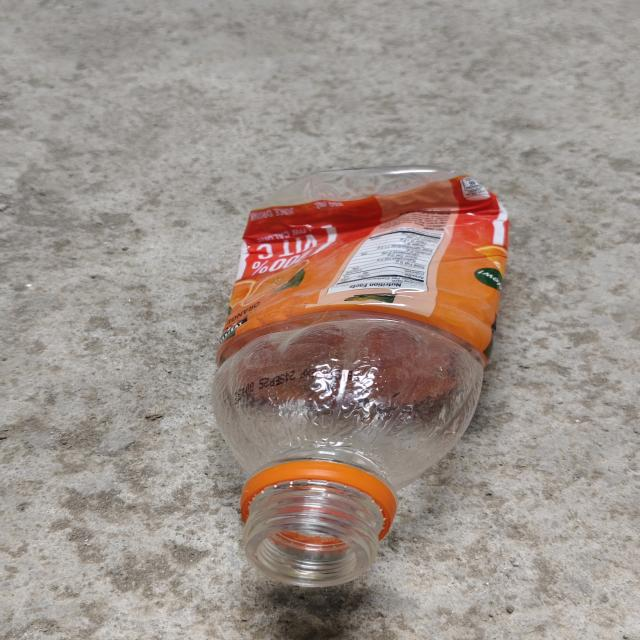Bottle: (212, 166, 509, 587)
